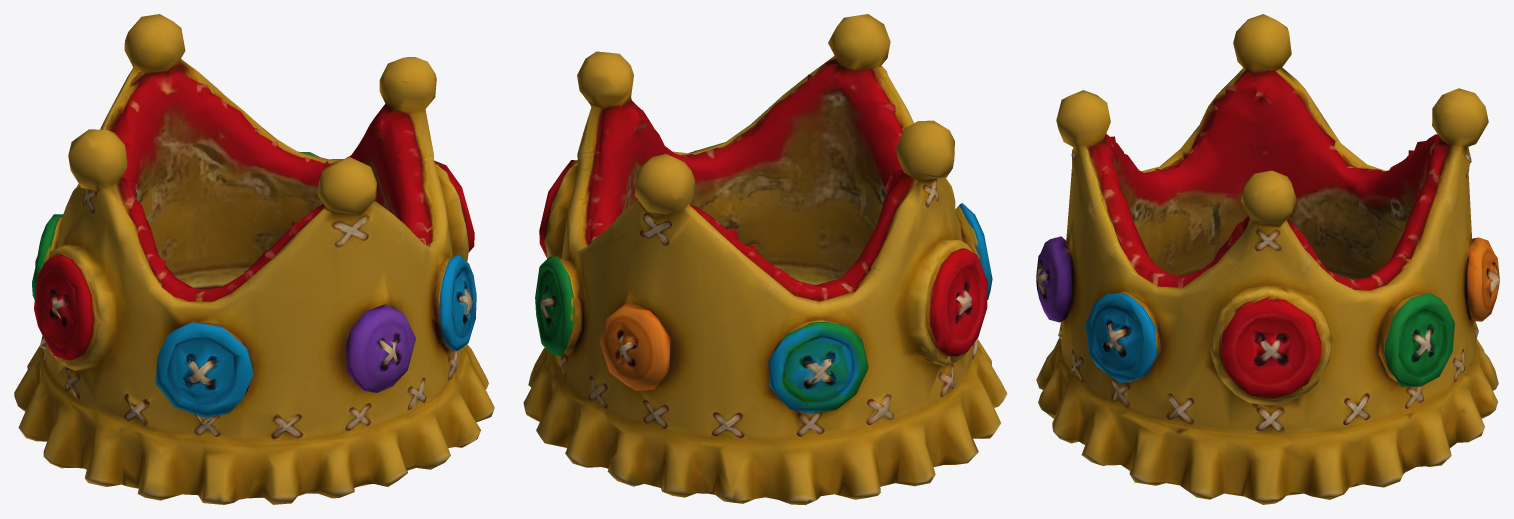
Rendered from crown.glb.
The picture shows the model from 3 angles, left to right: view 1: azimuth 30°, elevation 25°; view 2: azimuth 150°, elevation 25°; view 3: azimuth 270°, elevation 25°; orthographic projection. The views are drawn at different scales.
Parts seen in each view (by area): view 1: node_d5d86e40-79d0-45d9-801f-6838228291a7; view 2: node_d5d86e40-79d0-45d9-801f-6838228291a7; view 3: node_d5d86e40-79d0-45d9-801f-6838228291a7.
Part boxes in pixels (x1,y1,x2,y2): node_d5d86e40-79d0-45d9-801f-6838228291a7: [14, 14, 494, 504]; node_d5d86e40-79d0-45d9-801f-6838228291a7: [523, 14, 1007, 504]; node_d5d86e40-79d0-45d9-801f-6838228291a7: [1036, 14, 1499, 504].
Bounding box in the file's own units: 1 × 0.7481 × 0.9846.
Materials: 1 (1 with a texture image).
